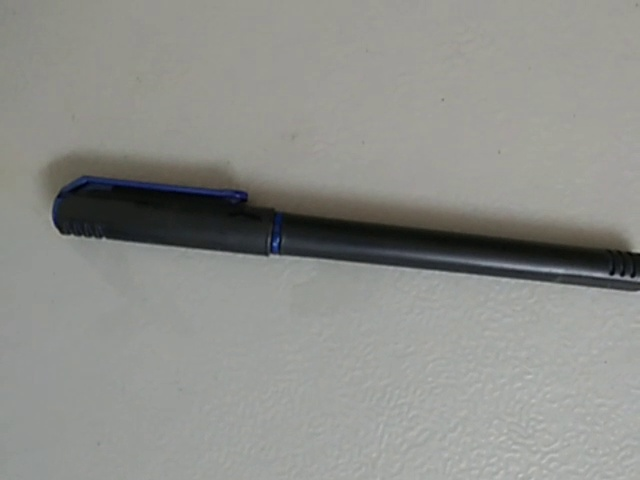Pen: (40, 146, 640, 352)
